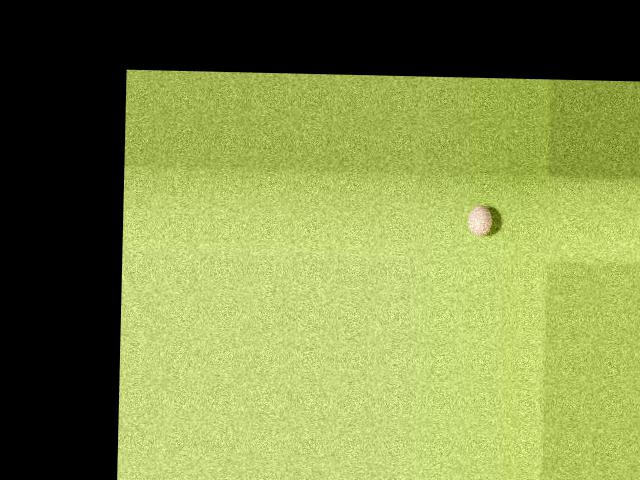egg: (468, 203, 492, 235)
